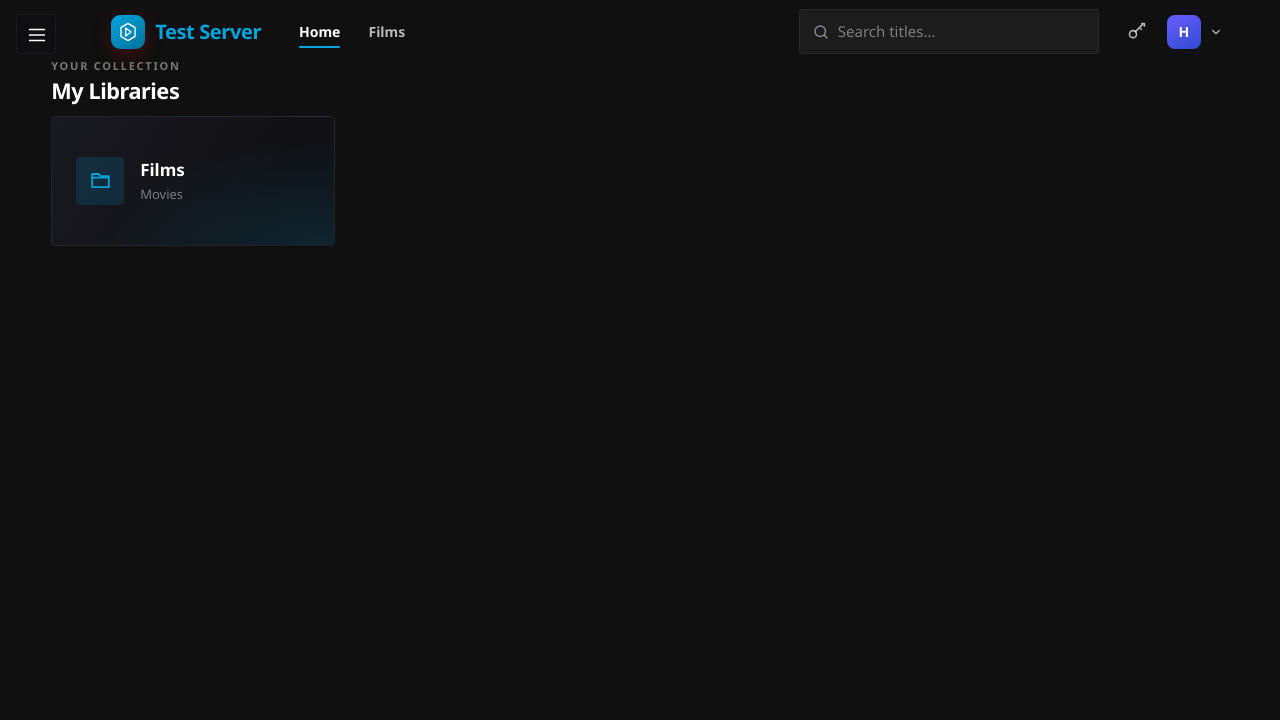
Test: dashboard › collapses the home sidebar behind a hamburger menu
Check: the button "Browse" is not shown
Click the button named "open navigation menu": (36, 34) [16,14,56,54]
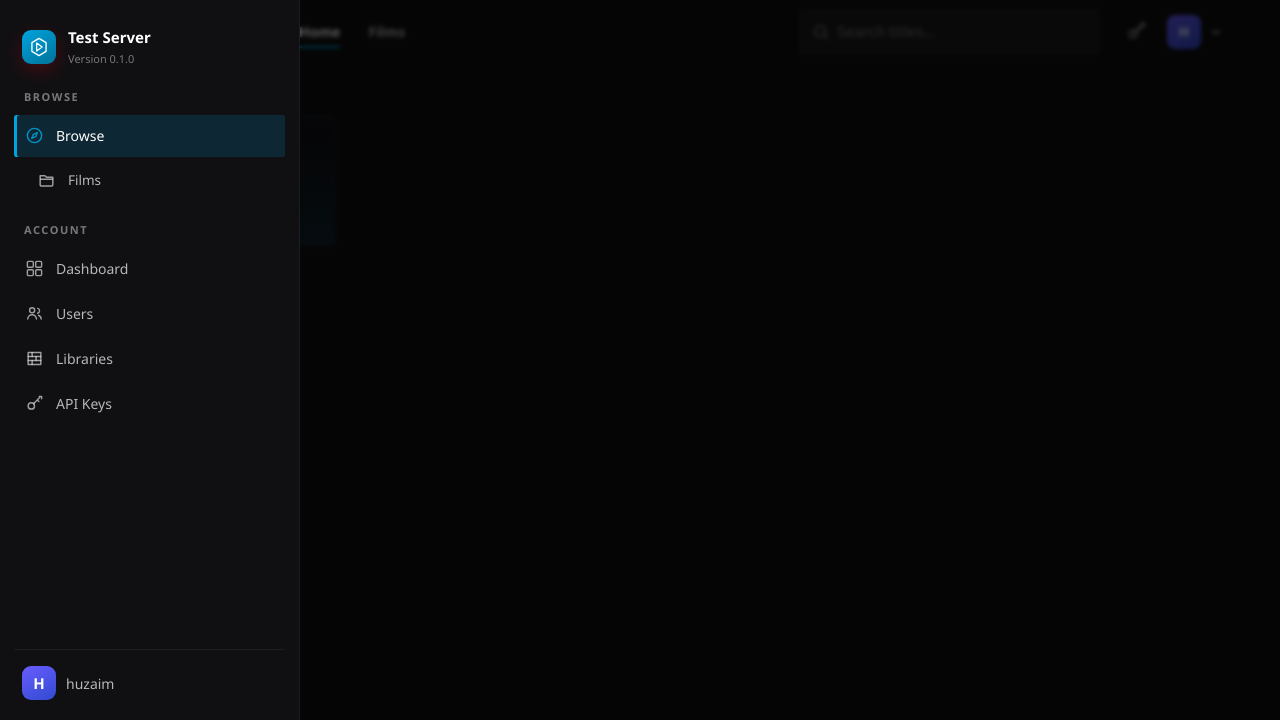
Check: the button "Browse" is shown, box [14,114,285,156]
Check: the button named "close navigation menu" is shown
Click the button named "close navigation menu": (640, 360) [0,0,1279,719]
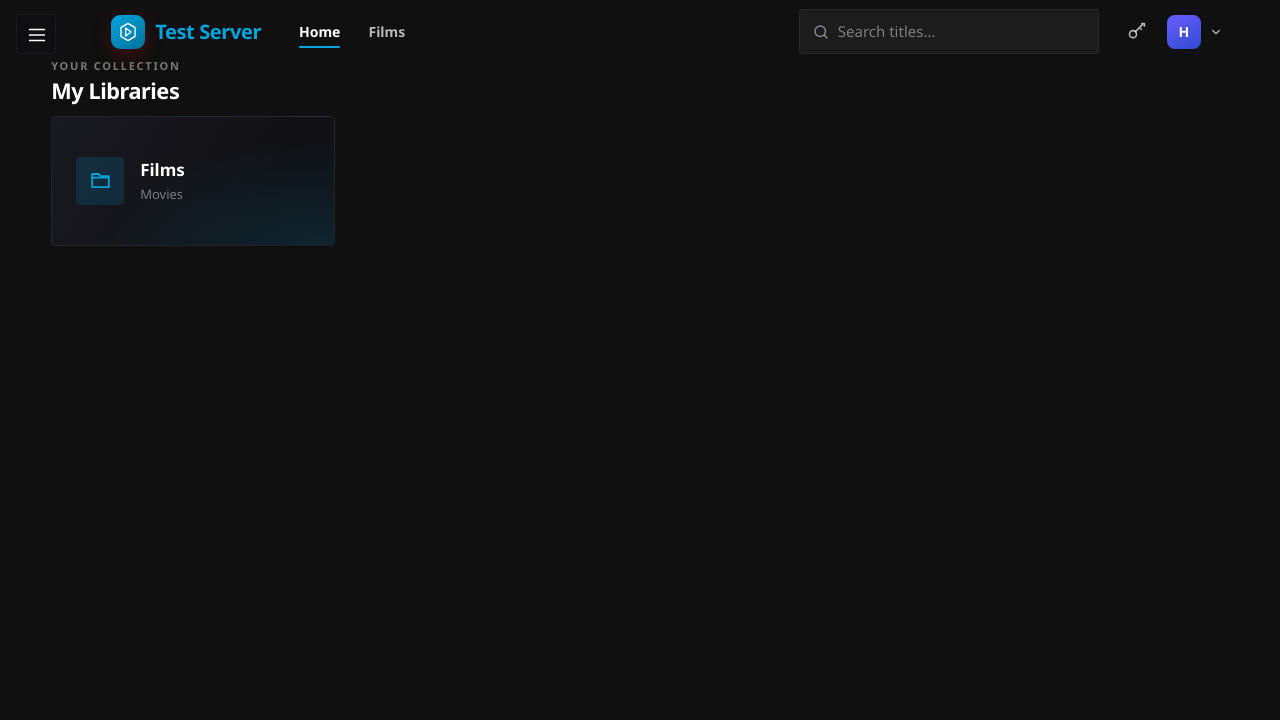
Check: the text "Browse" is gone
